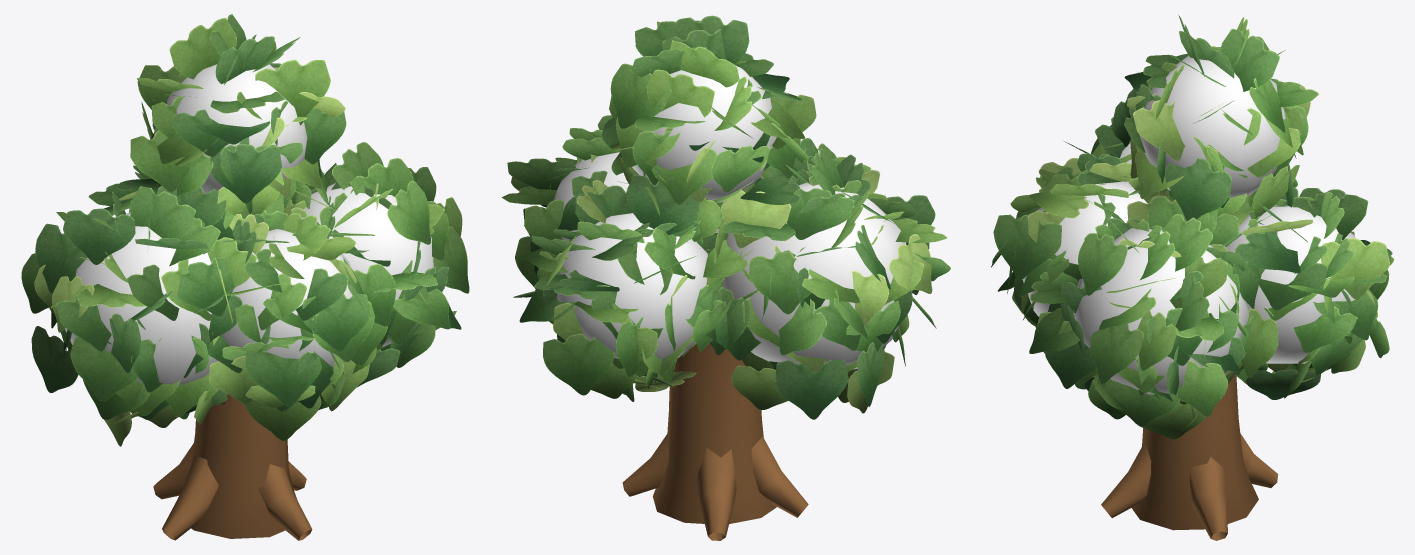
Rendered from tree-round-summer.glb.
3 renders of one model, left to right at view 1: azimuth 30°, elevation 25°; view 2: azimuth 150°, elevation 25°; view 3: azimuth 270°, elevation 25°, orthographic.
Parts seen in each view (by area): view 1: Crown, Hull, Trunk; view 2: Crown, Hull, Trunk; view 3: Crown, Hull, Trunk.
Boxes of the visible parts, x1,y1,x2,y2 form: Crown: (21,14,469,446); Hull: (65,64,433,385); Trunk: (153,394,312,540); Crown: (501,15,950,419); Hull: (553,65,912,369); Trunk: (622,343,808,540); Crown: (991,15,1393,439); Hull: (1022,55,1369,401); Trunk: (1101,376,1278,540).
Size of the model in its own units: 2.82 by 3.05 by 2.35.
4 materials, 1 textured.
